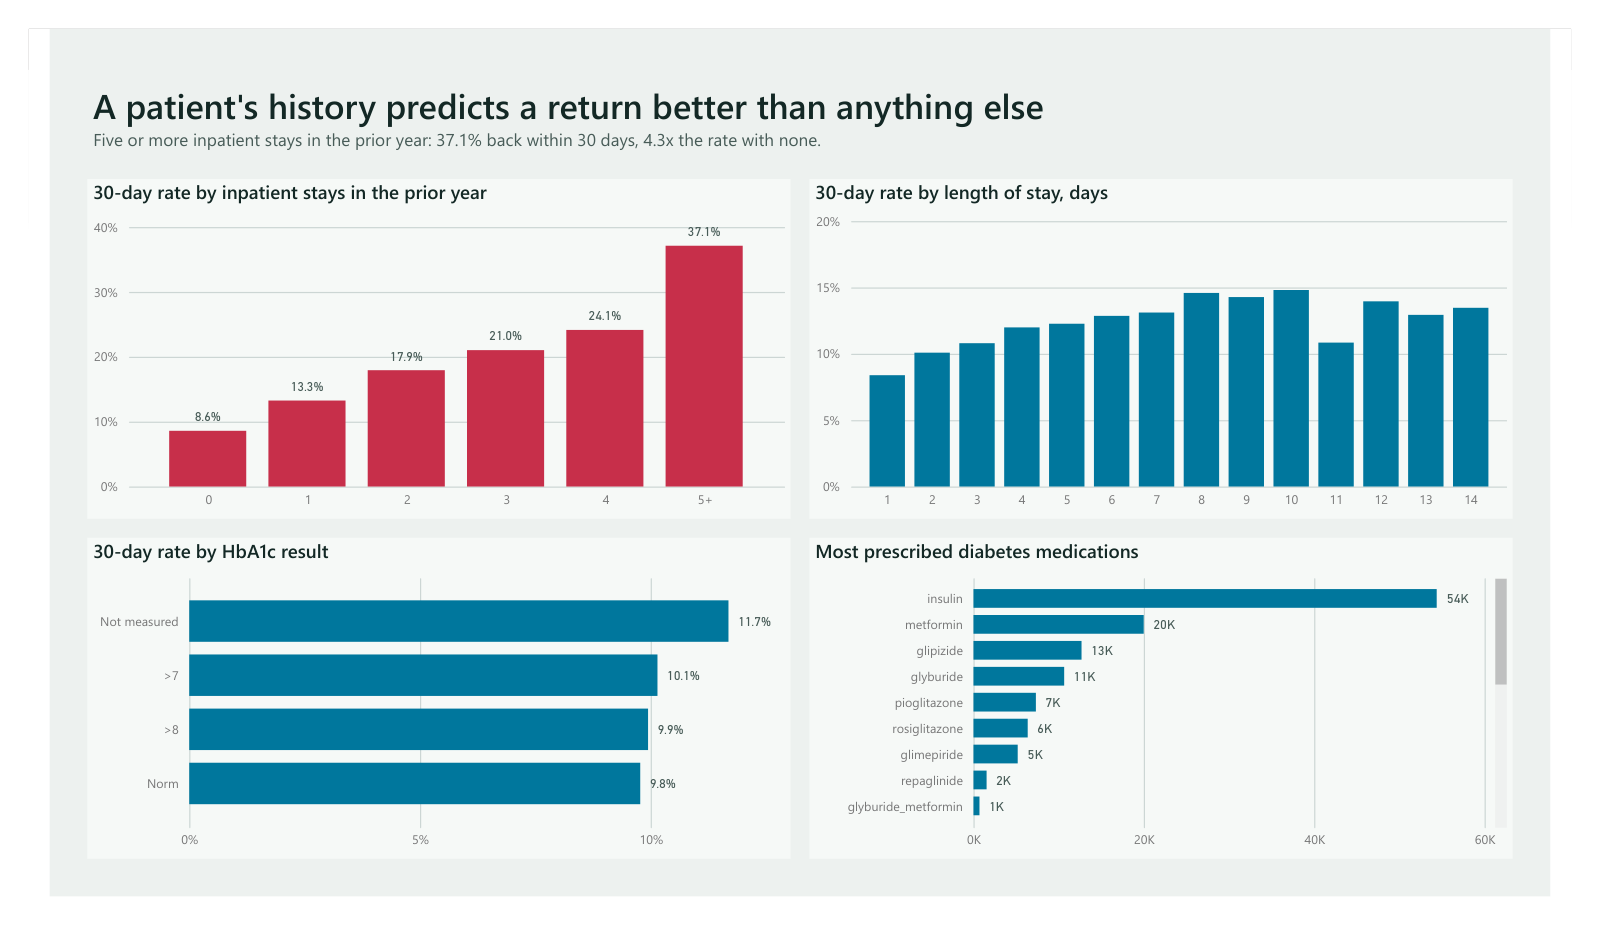

The dashboard page shown, as its layout file describes it:
{"tool":"powerbi","page":{"name":"Risk drivers","canvas":[1280,720],"ordinal":3},"visuals":[{"type":"textbox","box":[32,20,900,74],"z":0},{"type":"clusteredColumnChart","title":"30-day rate by inpatient stays in the prior year","fields":{"Category":["fact_encounter.prior_inpatient_band"],"Y":["fact_encounter.30-Day Readmission Rate"]},"box":[32,108,600,290],"z":1000},{"type":"clusteredColumnChart","title":"30-day rate by length of stay, days","fields":{"Category":["fact_encounter.los_days"],"Y":["fact_encounter.30-Day Readmission Rate"]},"box":[648,108,600,290],"z":2000},{"type":"clusteredBarChart","title":"30-day rate by HbA1c result","fields":{"Category":["fact_encounter.a1c_result"],"Y":["fact_encounter.30-Day Readmission Rate"]},"box":[32,414,600,274],"z":3000},{"type":"clusteredBarChart","title":"Most prescribed diabetes medications","fields":{"Category":["fact_medication.medication"],"Y":["fact_encounter.Prescriptions"]},"box":[648,414,600,274],"z":4000}]}

Visuals, with their boxes in screenshot pixels (x1, y1, x2, y2), scaled from the page's 1280x720 canvas onto the 1600x926 screenshot:
textbox: 40 26 1165 121
"30-day rate by inpatient stays in the prior year" clusteredColumnChart: 40 139 790 512
"30-day rate by length of stay, days" clusteredColumnChart: 810 139 1560 512
"30-day rate by HbA1c result" clusteredBarChart: 40 532 790 885
"Most prescribed diabetes medications" clusteredBarChart: 810 532 1560 885
